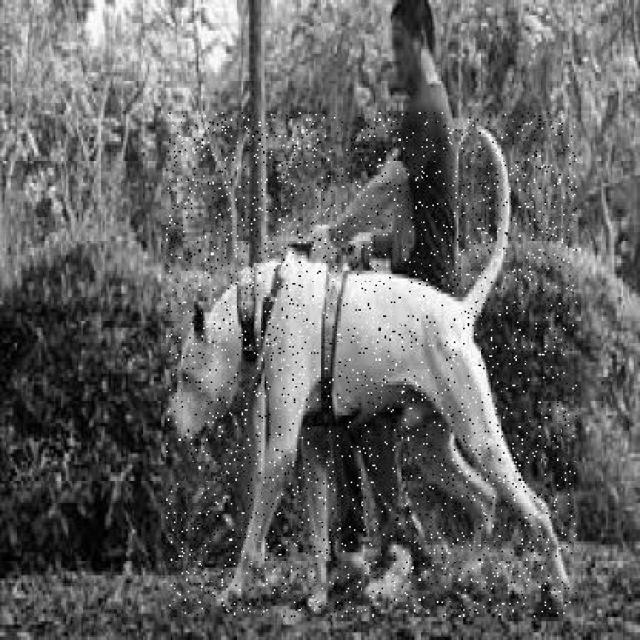Dog: (166, 112, 579, 618)
